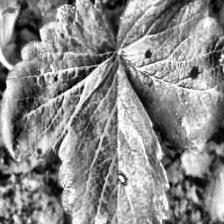Leaf Spot: (57, 55, 171, 224), (0, 0, 118, 161), (116, 0, 224, 156), (181, 140, 219, 180)
